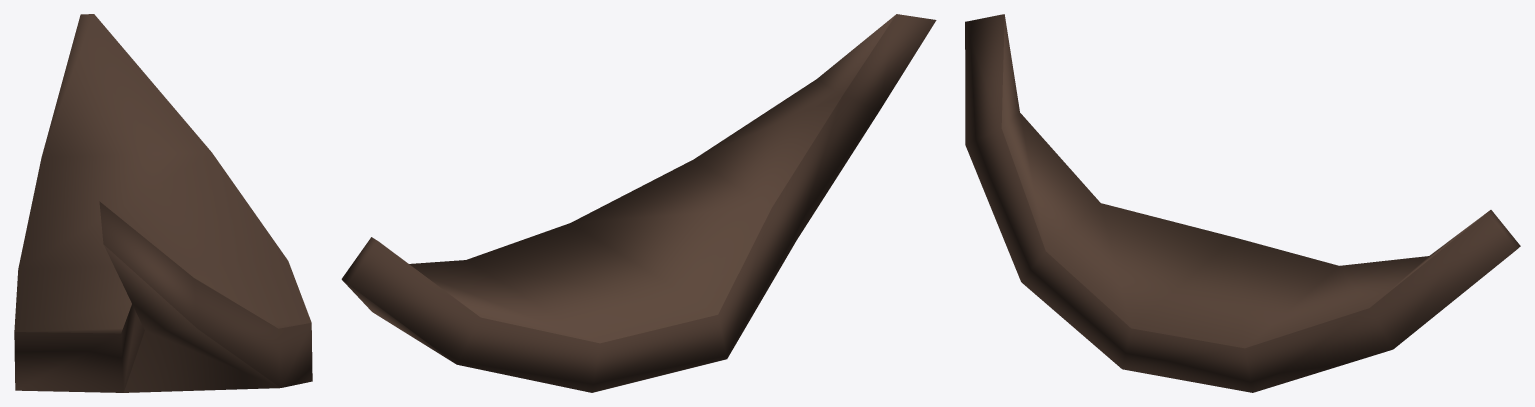
The model's file is furnishings-trash-brokenglassshard_v2.glb.
3 views of the same model, side by side, from view 1: azimuth 30°, elevation 25°; view 2: azimuth 150°, elevation 25°; view 3: azimuth 270°, elevation 25° (orthographic). The views are drawn at different scales.
Visible parts, largest first — view 1: BrokenGlassShard_v2; view 2: BrokenGlassShard_v2; view 3: BrokenGlassShard_v2.
Part boxes in pixels (bbox=[...]): BrokenGlassShard_v2: bbox=[14, 14, 312, 392]; BrokenGlassShard_v2: bbox=[341, 14, 936, 392]; BrokenGlassShard_v2: bbox=[965, 14, 1520, 392].
Size of the model in its own units: 0.0585 by 0.0458 by 0.0941.
